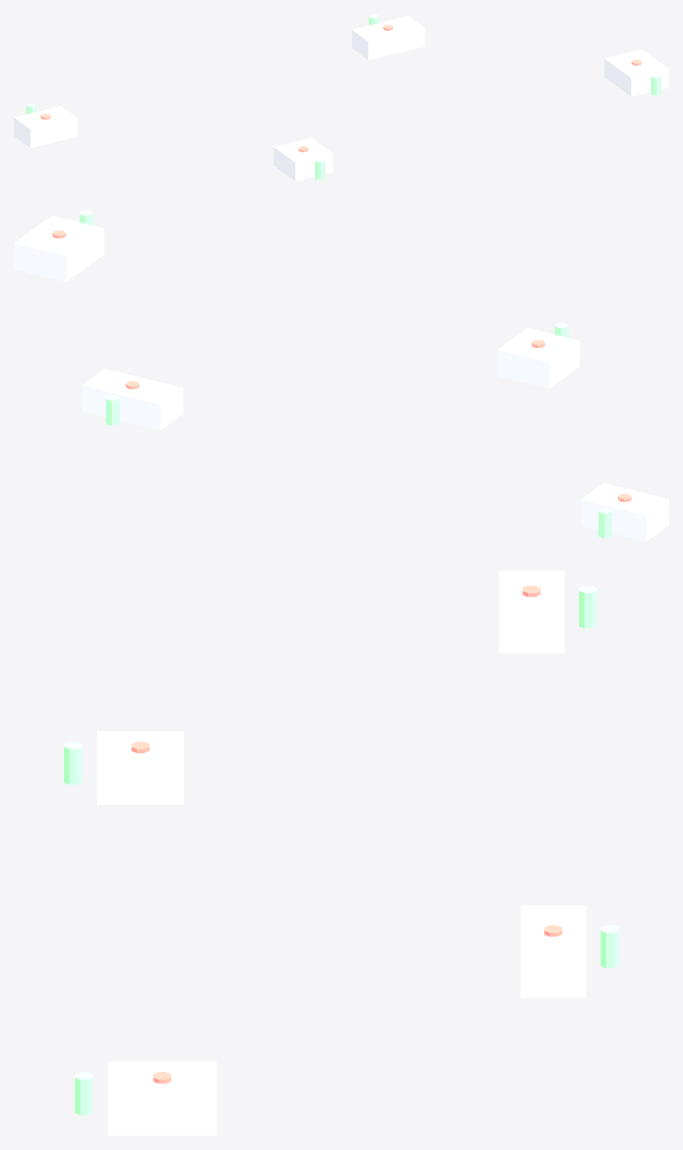
Rendered from wave1_cover_yard.glb.
3 renders of one model, top to bottom at view 1: azimuth 30°, elevation 25°; view 2: azimuth 150°, elevation 25°; view 3: azimuth 270°, elevation 25°, orthographic. The views are drawn at different scales.
Visible parts, largest first — view 1: wave1_cover_yard; view 2: wave1_cover_yard; view 3: wave1_cover_yard.
Boxes of the visible parts, x1=… form: wave1_cover_yard: x1=14, y1=14, x2=668, y2=181; wave1_cover_yard: x1=14, y1=210, x2=668, y2=541; wave1_cover_yard: x1=64, y1=570, x2=618, y2=1135.
Size of the model in its own units: 57.5 by 2.1 by 25.53.
